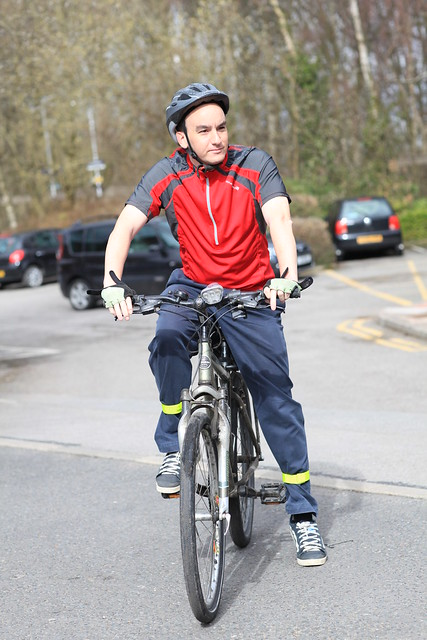helmet: (165, 75, 233, 122)
